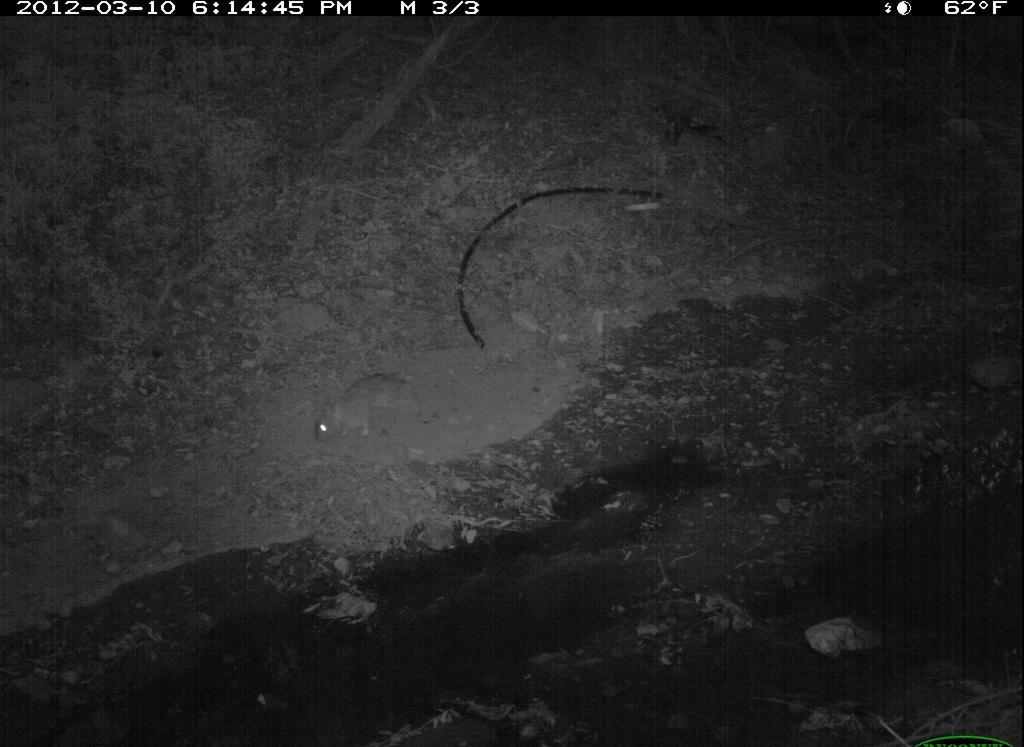rabbit: (301, 364, 420, 457)
